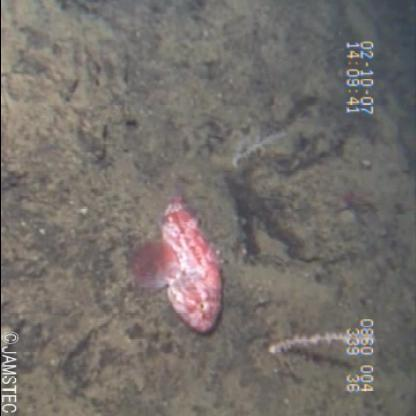Bio: (125, 186, 231, 338)
